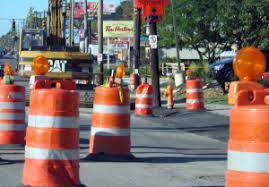barrel: (30, 84, 78, 186), (229, 92, 268, 187), (93, 85, 131, 154), (1, 81, 27, 145), (186, 78, 204, 109), (137, 83, 153, 113)
